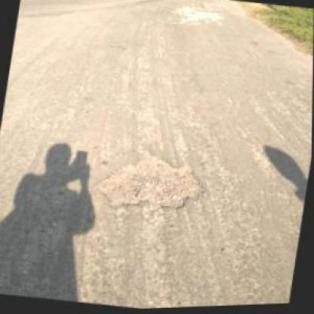Hueco: (91, 143, 213, 224)
